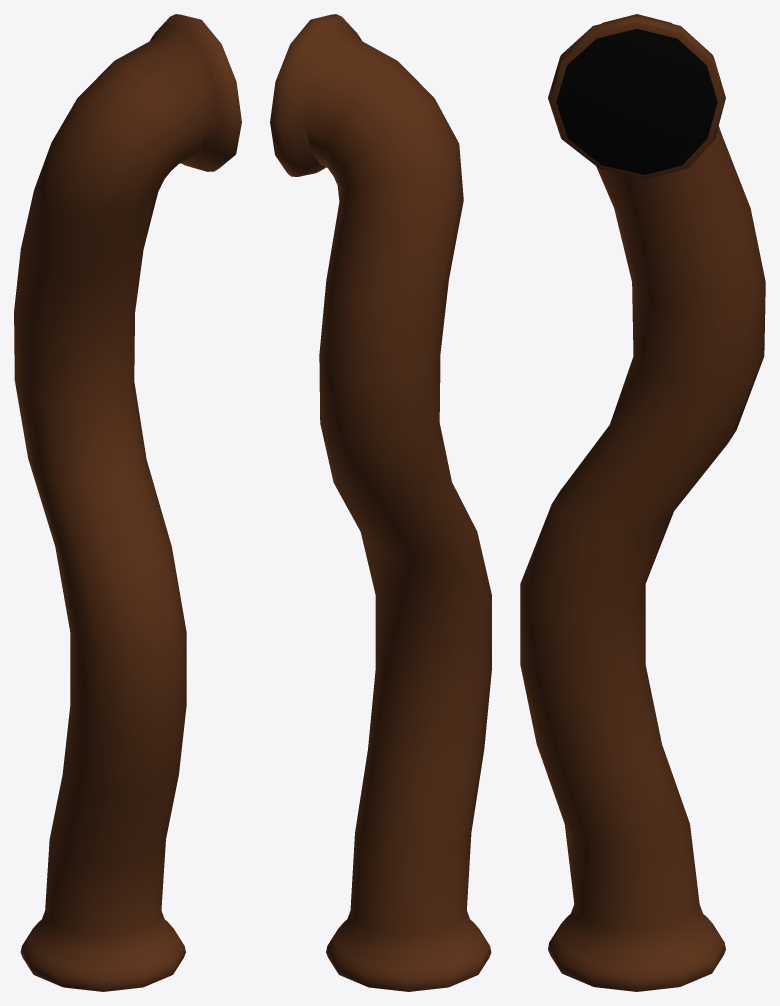
The model's file is Pipe_Curve_05x05_4m_Bent.fbx.
3 views of the same model, side by side, from view 1: azimuth 30°, elevation 25°; view 2: azimuth 150°, elevation 25°; view 3: azimuth 270°, elevation 25° (orthographic). The views are drawn at different scales.
Visible parts, largest first — view 1: Pipe_Curve_05x05_4m_Bent; view 2: Pipe_Curve_05x05_4m_Bent; view 3: Pipe_Curve_05x05_4m_Bent.
Boxes of the visible parts, bbox=[...] form: Pipe_Curve_05x05_4m_Bent: bbox=[14, 14, 241, 991]; Pipe_Curve_05x05_4m_Bent: bbox=[270, 14, 491, 991]; Pipe_Curve_05x05_4m_Bent: bbox=[520, 14, 765, 991].
Bounding box in the file's own units: 85.53 × 436 × 97.94.
